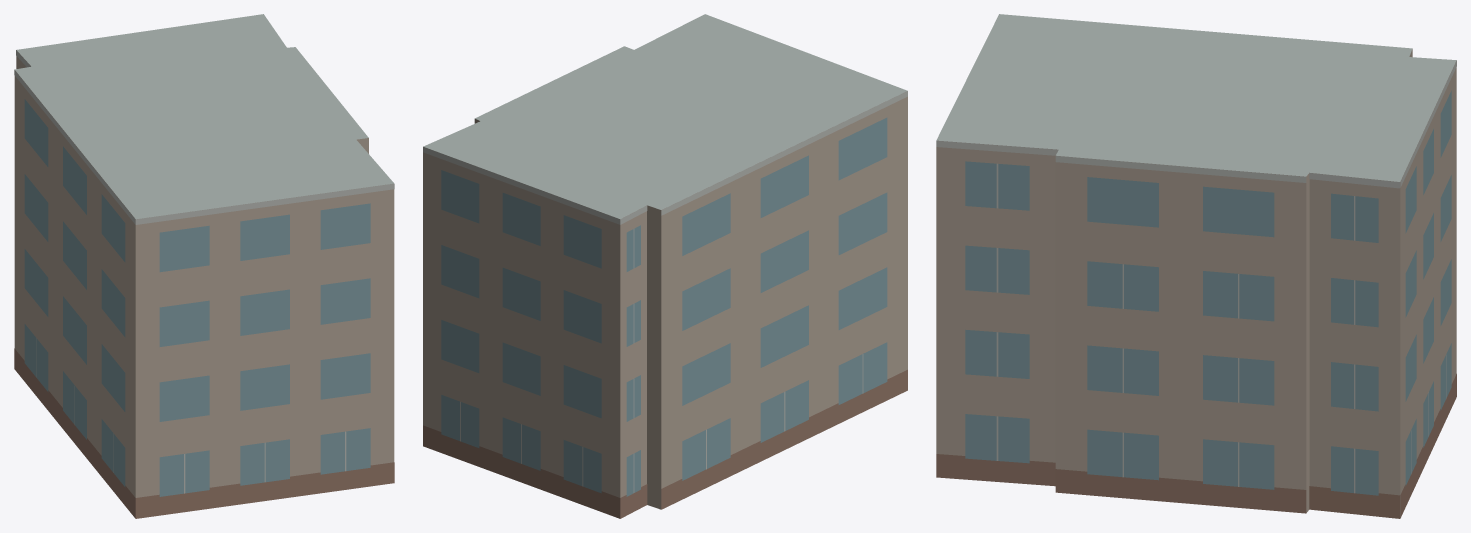
The model's file is survey-upis-32853475.glb.
3 views of the same model, side by side, from view 1: azimuth 30°, elevation 25°; view 2: azimuth 150°, elevation 25°; view 3: azimuth 270°, elevation 25° (orthographic). The views are drawn at different scales.
Parts seen in each view (by area): view 1: survey-upis-32853475.tmp; view 2: survey-upis-32853475.tmp; view 3: survey-upis-32853475.tmp.
Boxes of the visible parts, x1,y1,x2,y2 form: survey-upis-32853475.tmp: (14, 14, 394, 518); survey-upis-32853475.tmp: (423, 14, 907, 518); survey-upis-32853475.tmp: (936, 14, 1456, 518).
Bounding box in the file's own units: 13.71 × 12.8 × 17.94.
